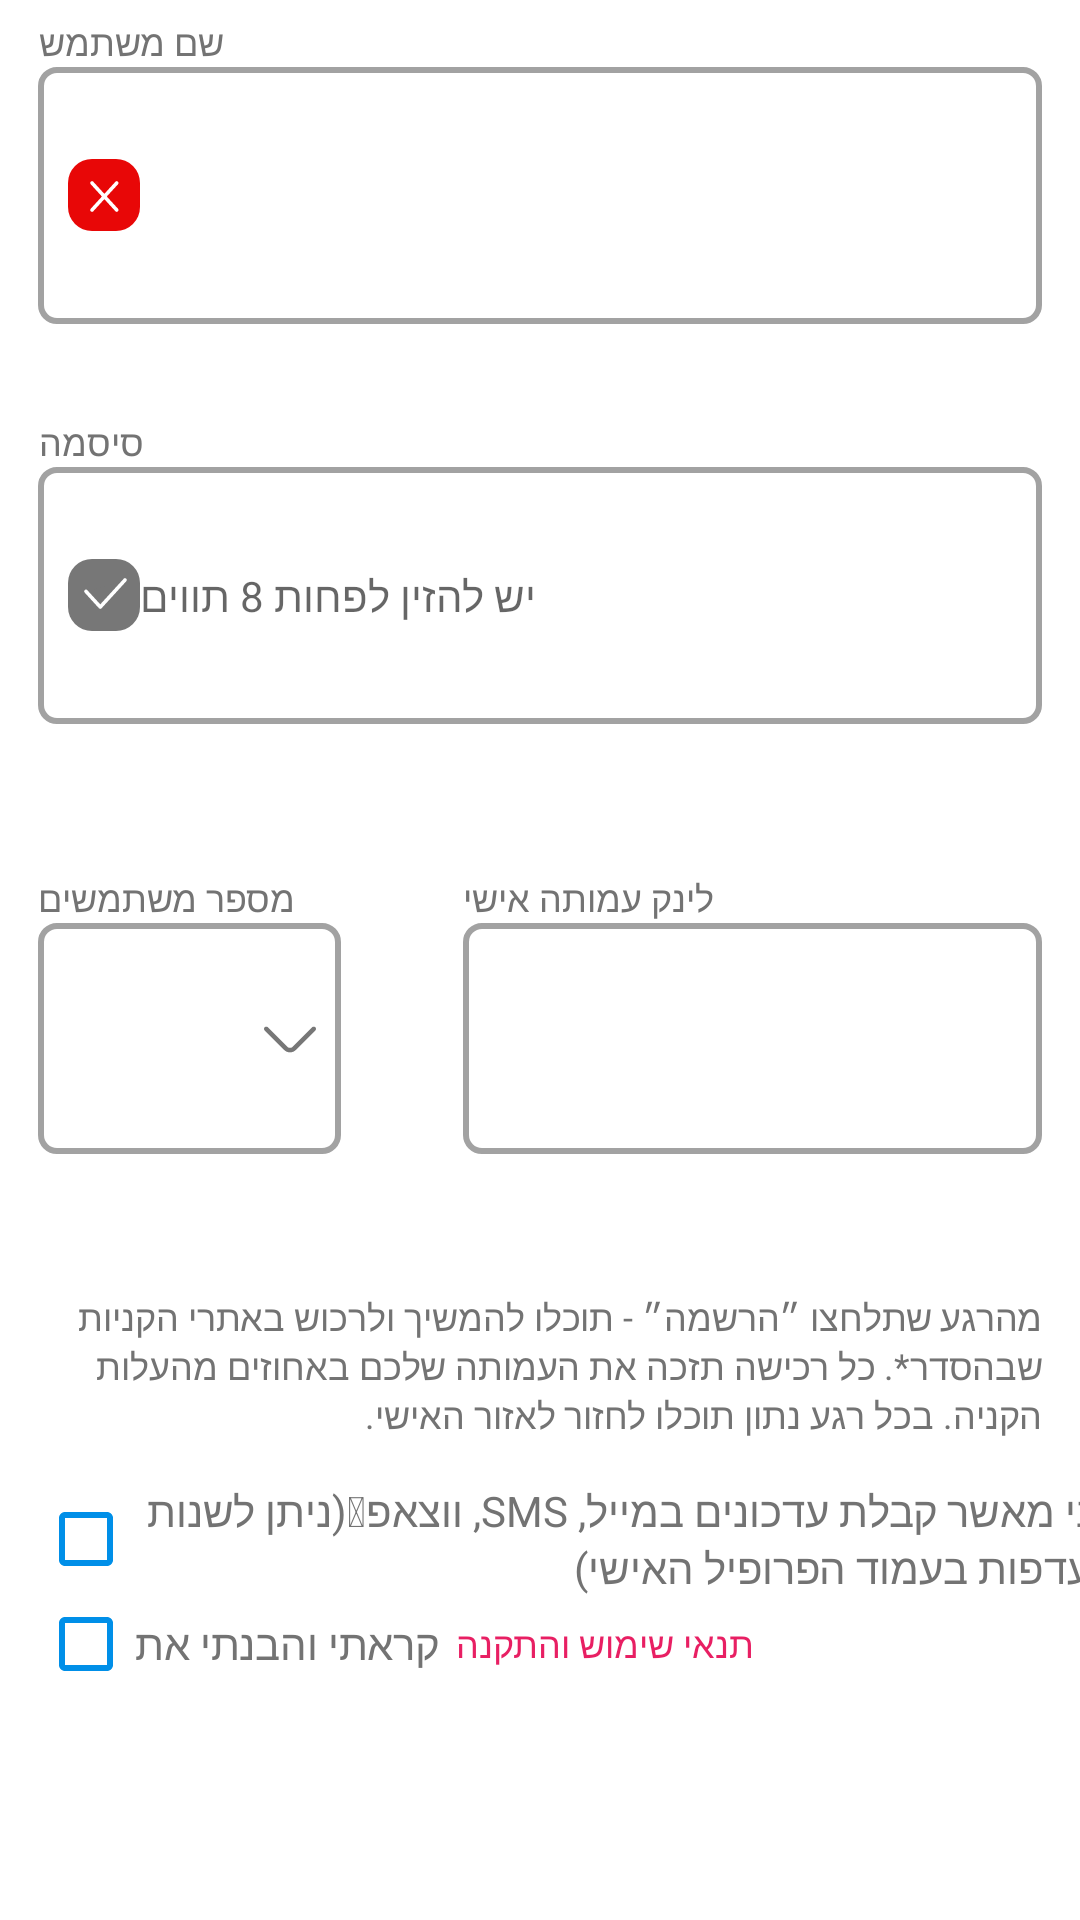

Icons on this 1080x1920 Android screen, each with the point to tap as (x,y):
arrow down: (290,1039)
